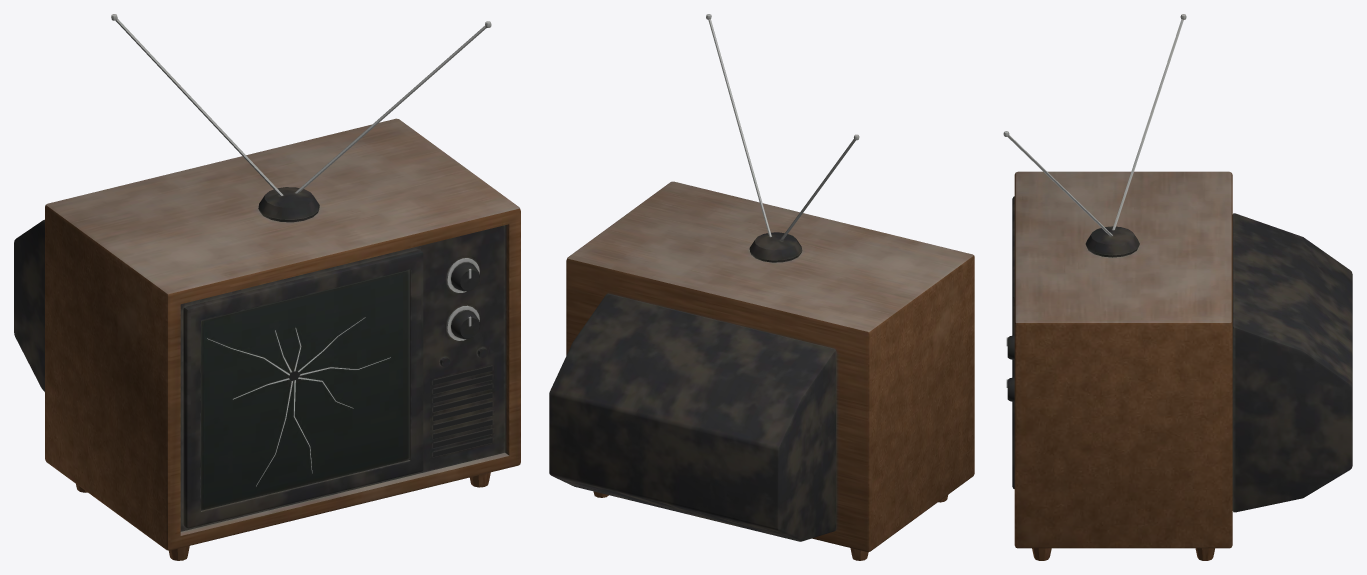
The model's file is tv_tubo.glb.
The picture shows the model from 3 angles, left to right: view 1: azimuth 30°, elevation 25°; view 2: azimuth 150°, elevation 25°; view 3: azimuth 270°, elevation 25°; orthographic projection. The views are drawn at different scales.
Visible parts, largest first — view 1: tv; view 2: tv; view 3: tv.
Part boxes in pixels (left/top/right/bottom): tv: left=14, top=14, right=520, bottom=560; tv: left=549, top=14, right=974, bottom=560; tv: left=1003, top=14, right=1352, bottom=560.
Size of the model in its own units: 0.66 by 0.853 by 0.6405.
1 material, 1 textured.
